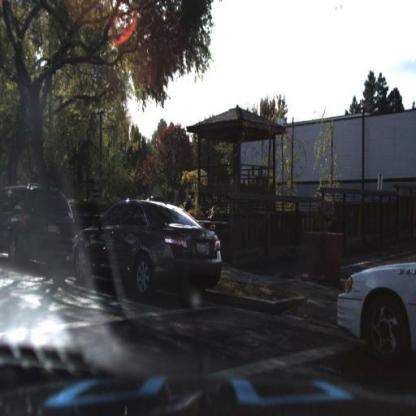car: (69, 179, 228, 311), (2, 183, 77, 274)
